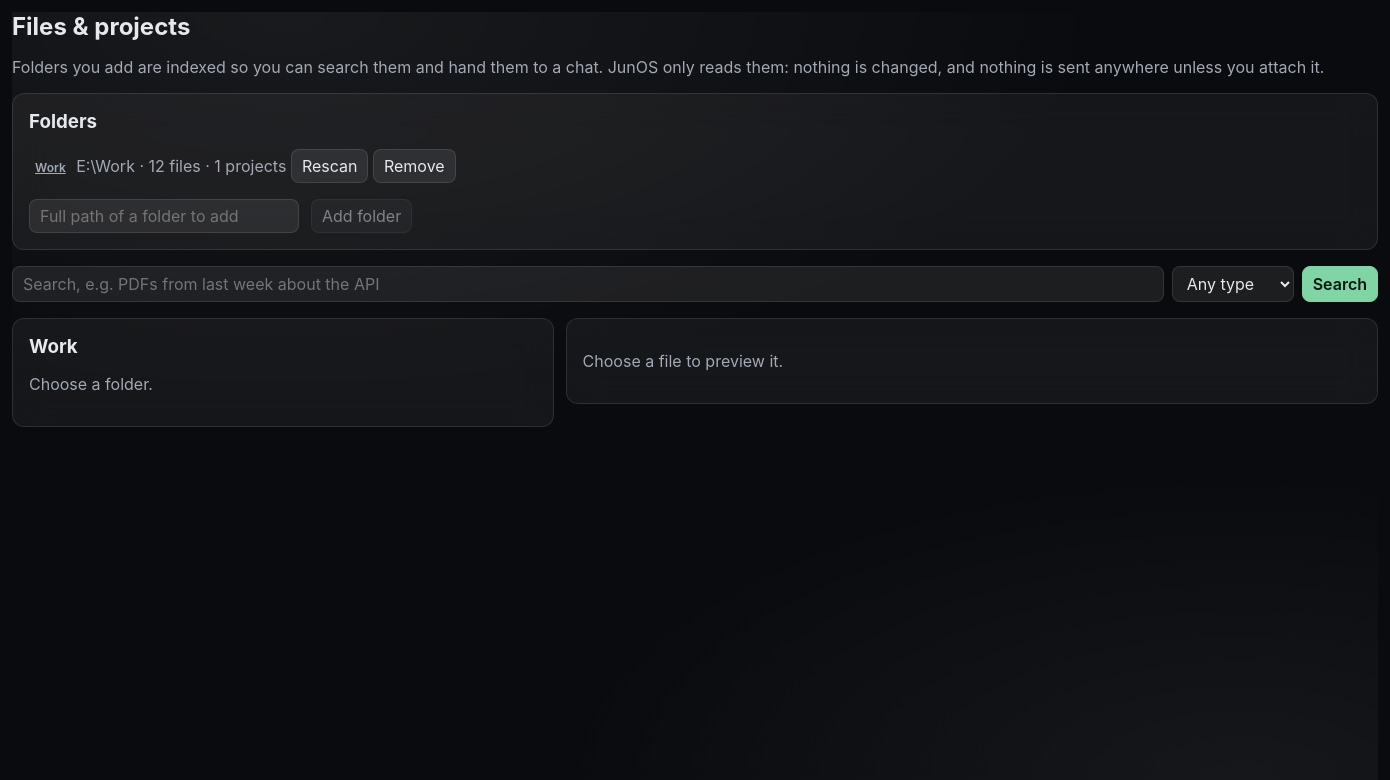
Test: Files page › asks before removing a folder, then says what was deleted
Click the button with aria-label "Remove Work".
click(414, 166)  # box [373,149,456,183]
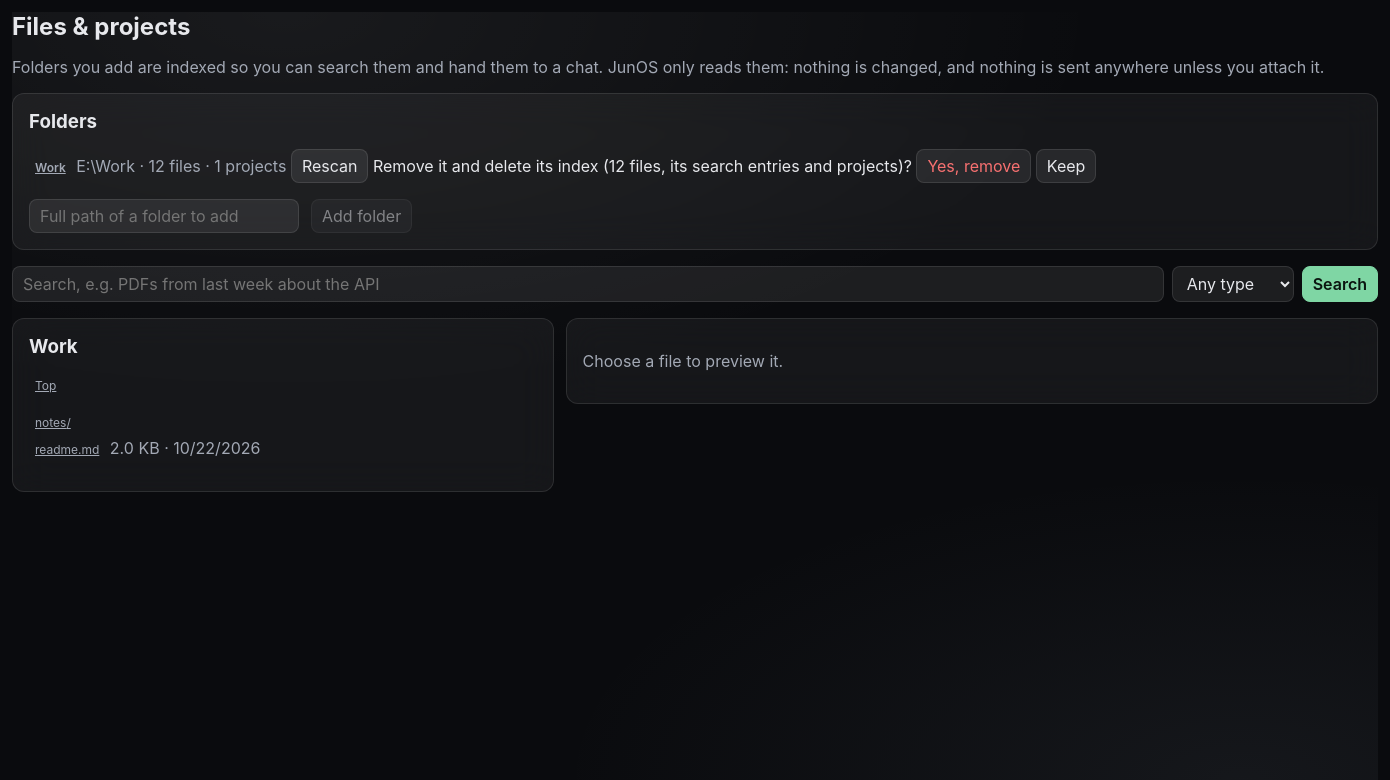
Expected: the text "Remove it and delete its index (12 files, its search entries and projects)?" is shown, [373,156,912,176]
Click the button "Keep".
click(1066, 166)  # box [1036,149,1096,183]
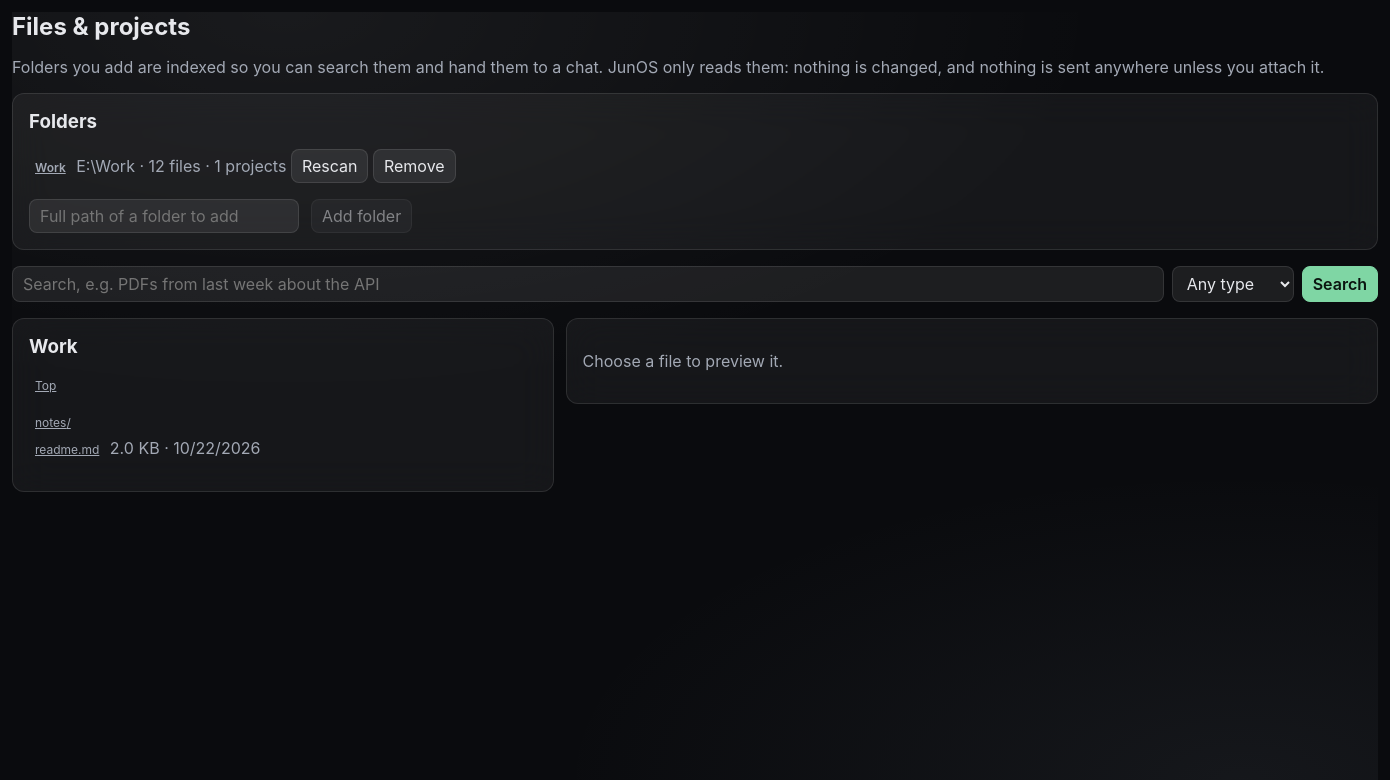
Click the button with aria-label "Remove Work".
click(414, 166)  # box [373,149,456,183]
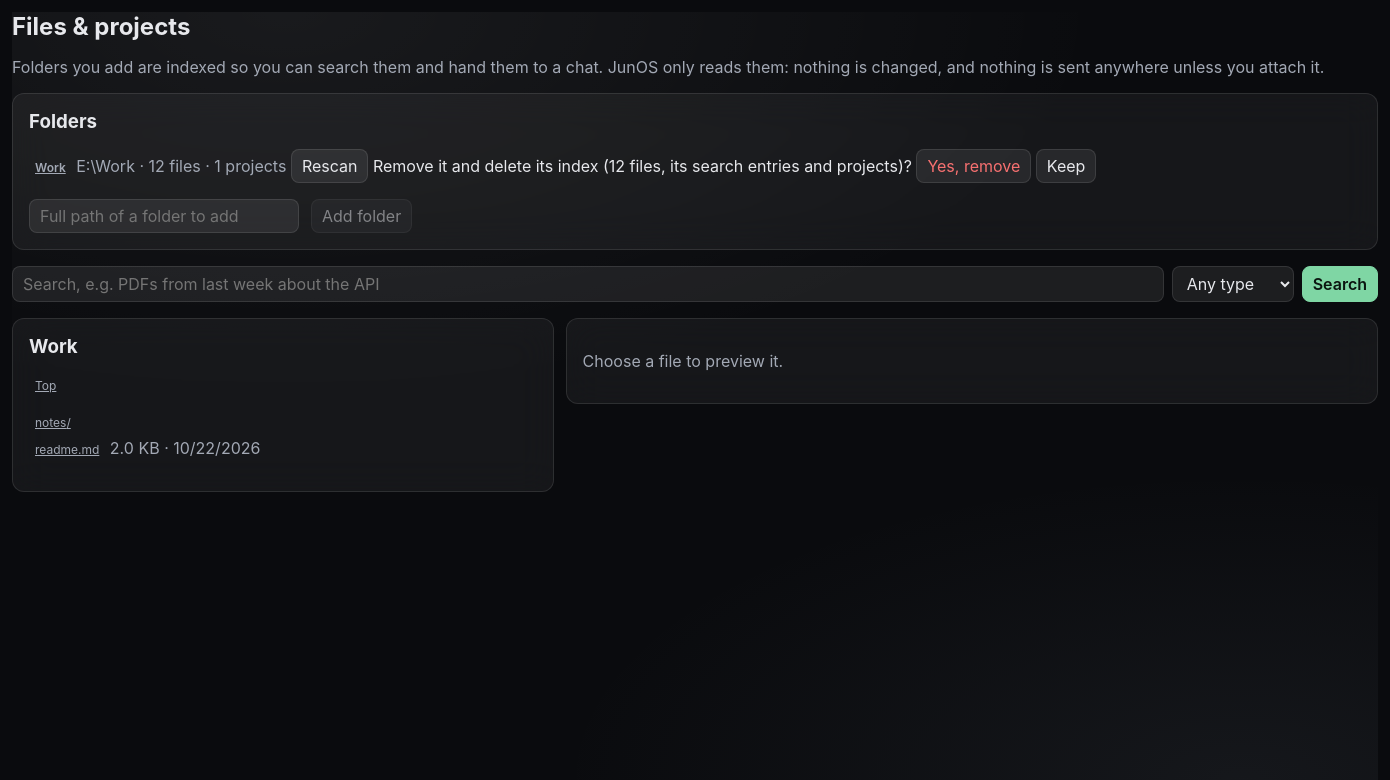
Click the button "Yes, remove".
click(974, 166)  # box [916,149,1031,183]
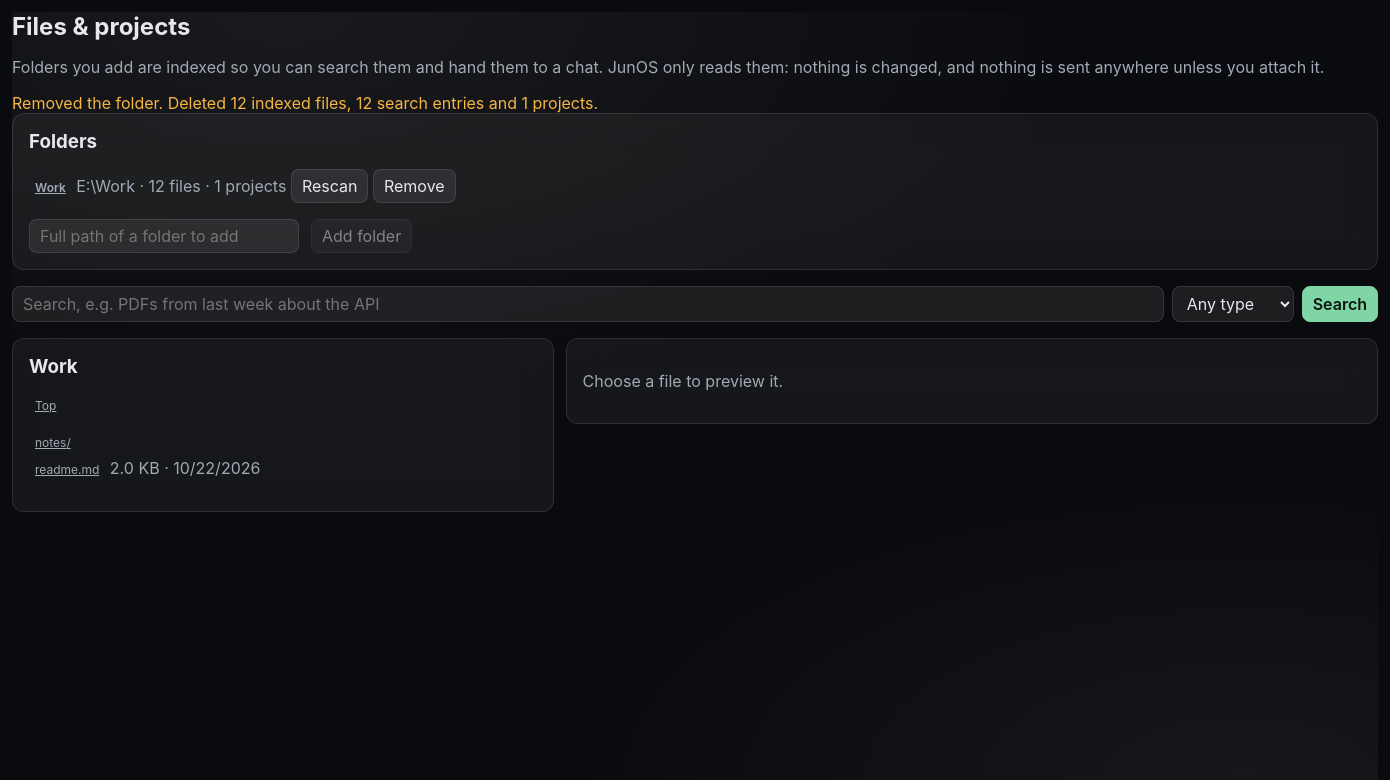
Expected: the message reads "Removed the folder. Deleted 12 indexed files, 12 search entries and 1 projects.", [12,93,598,113]
